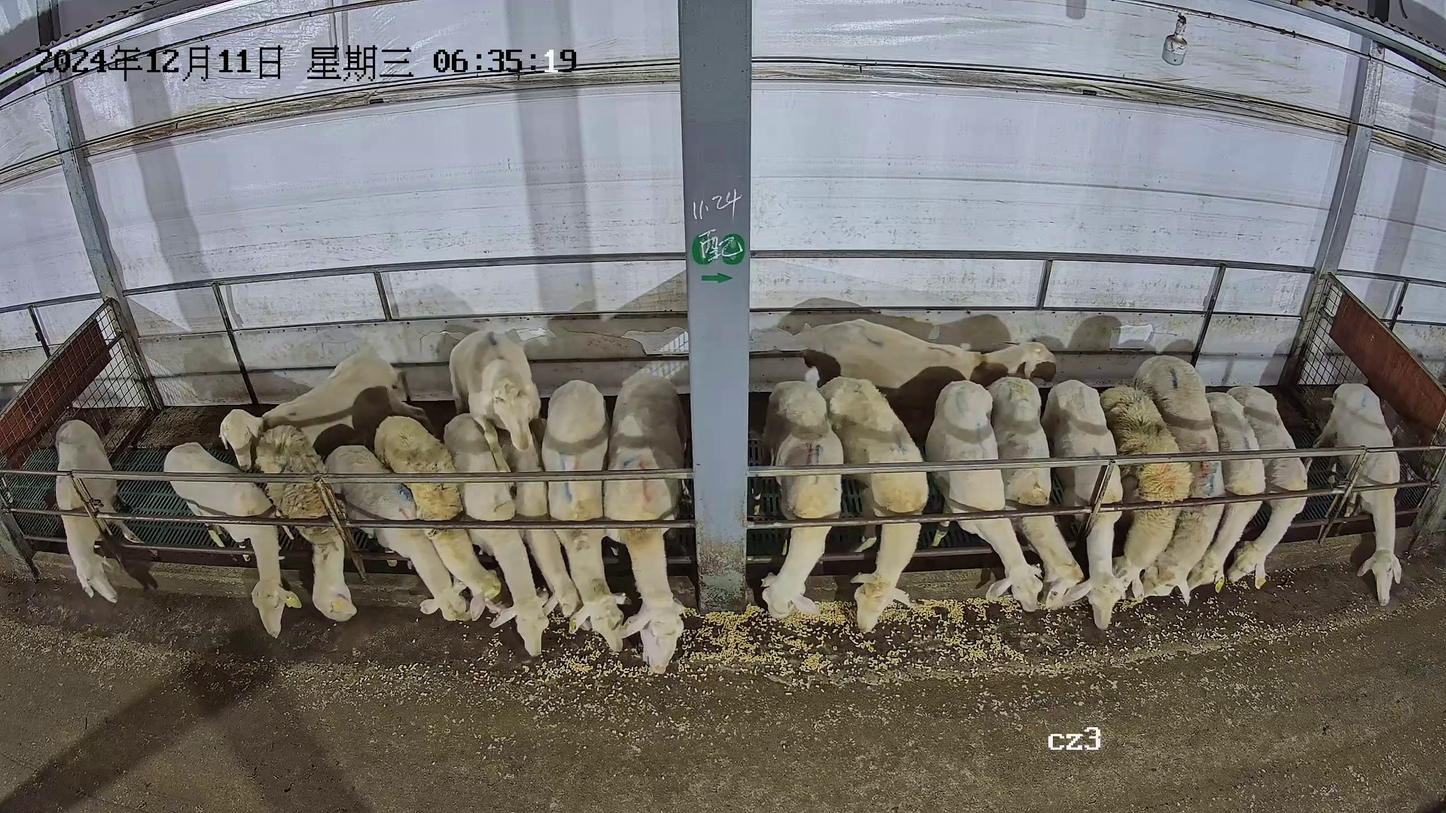Nmounting: (443, 323, 552, 624)
